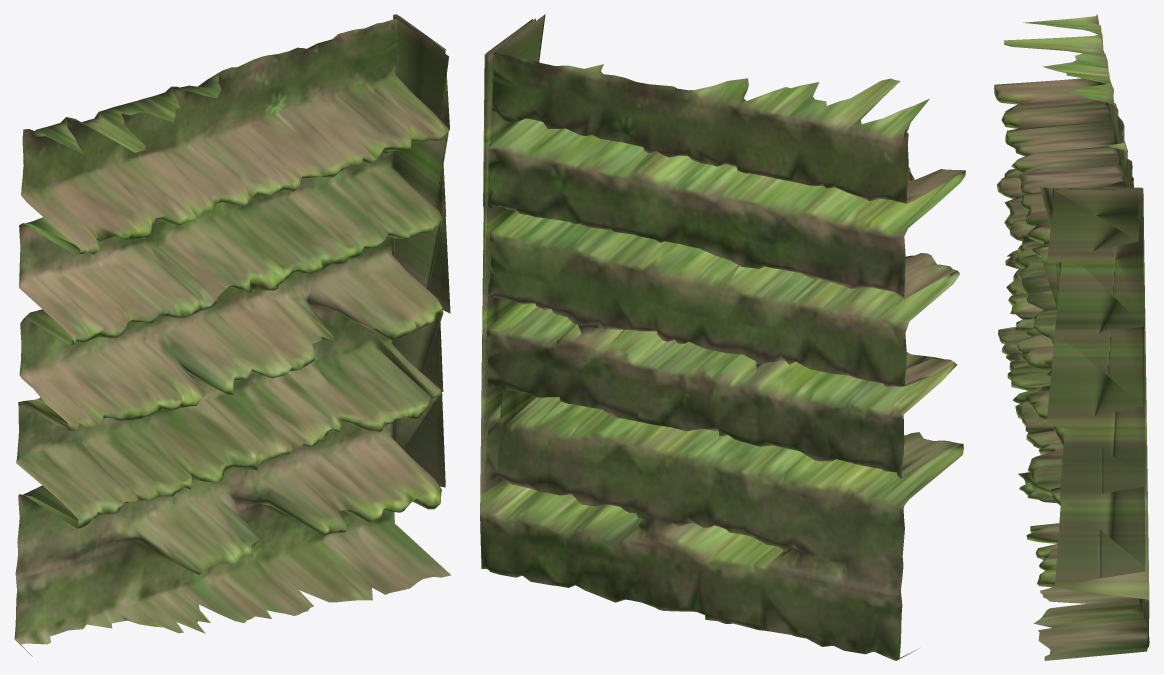
File: map_200_100.obj
3 views of the same model, side by side, from view 1: azimuth 30°, elevation 25°; view 2: azimuth 150°, elevation 25°; view 3: azimuth 270°, elevation 25° (orthographic). The views are drawn at different scales.
Size of the model in its own units: 8 by 10 by 2.99.
Materials: 1 (1 with a texture image).
